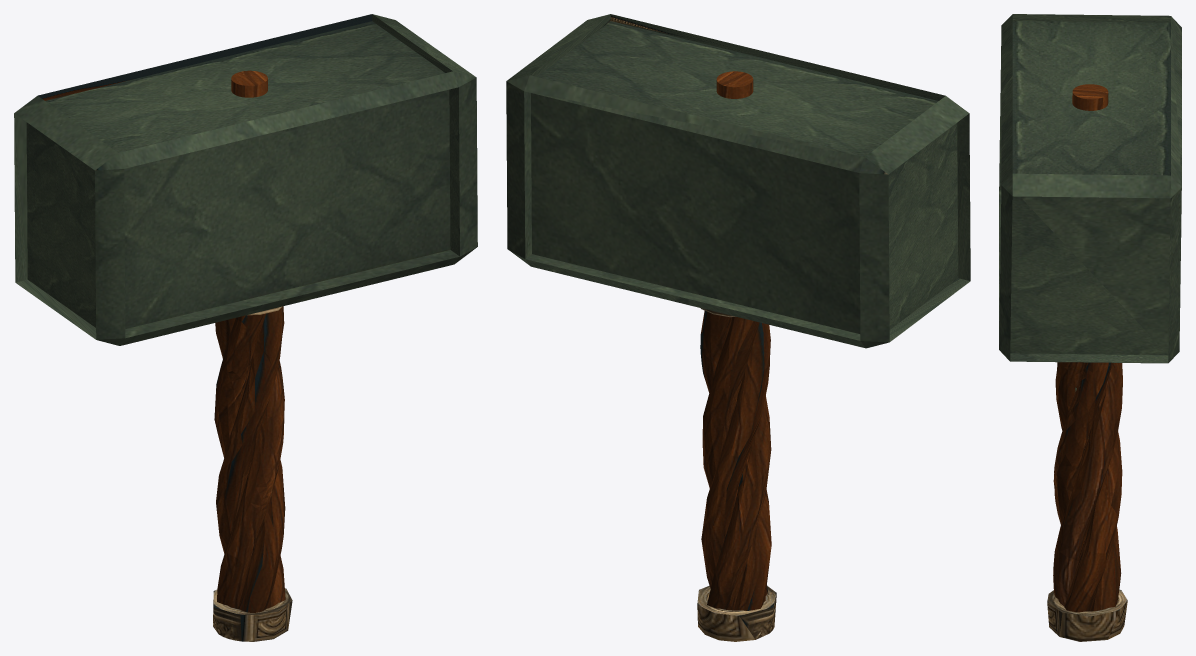
Rendered from NewMjolnir.fbx.
3 renders of one model, left to right at view 1: azimuth 30°, elevation 25°; view 2: azimuth 150°, elevation 25°; view 3: azimuth 270°, elevation 25°, orthographic. The views are drawn at different scales.
Parts seen in each view (by area): view 1: Mjolnir; view 2: Mjolnir; view 3: Mjolnir.
Part boxes in pixels (box(x1,y1,x2,y2)): Mjolnir: box(14, 14, 477, 641); Mjolnir: box(506, 14, 970, 641); Mjolnir: box(999, 14, 1181, 641).
Size of the model in its own units: 90.74 by 124 by 38.49.
